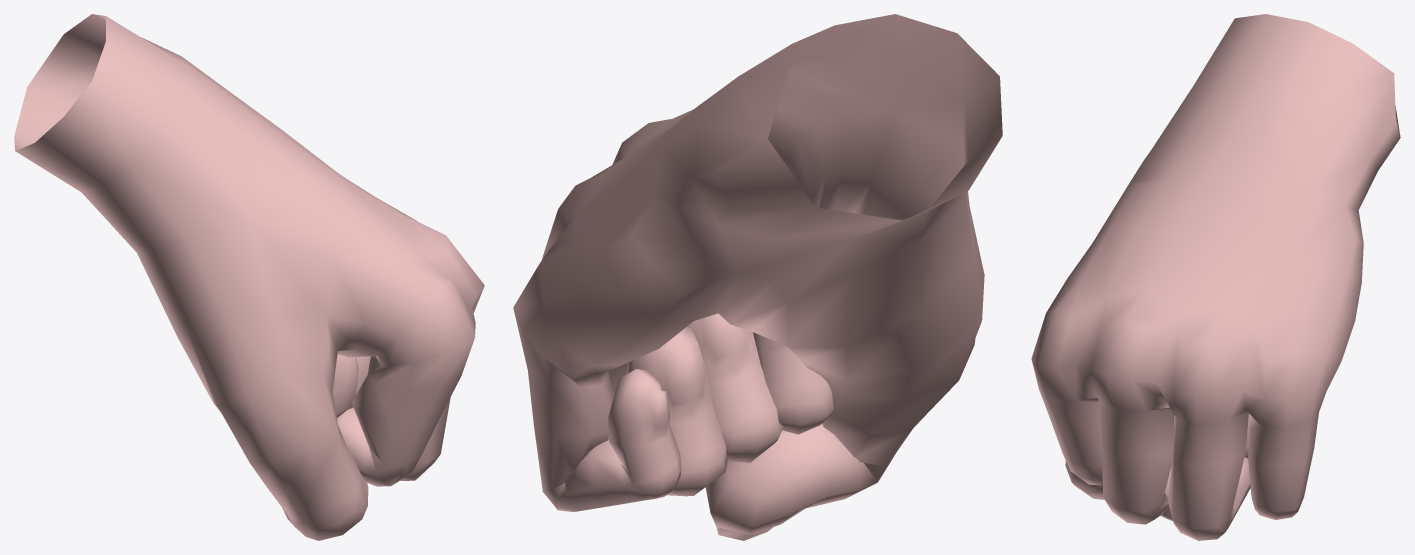
File: Superhero_Male_A_Fist01.fbx
The picture shows the model from 3 angles, left to right: view 1: azimuth 30°, elevation 25°; view 2: azimuth 150°, elevation 25°; view 3: azimuth 270°, elevation 25°; orthographic projection. The views are drawn at different scales.
Parts seen in each view (by area): view 1: Superhero_Male_A_Fist01; view 2: Superhero_Male_A_Fist01; view 3: Superhero_Male_A_Fist01.
Part boxes in pixels (<box>): Superhero_Male_A_Fist01: <box>14,14,484,540</box>; Superhero_Male_A_Fist01: <box>513,14,1002,540</box>; Superhero_Male_A_Fist01: <box>1031,14,1400,540</box>.
Size of the model in its own units: 0.6933 by 0.8374 by 0.6421.
